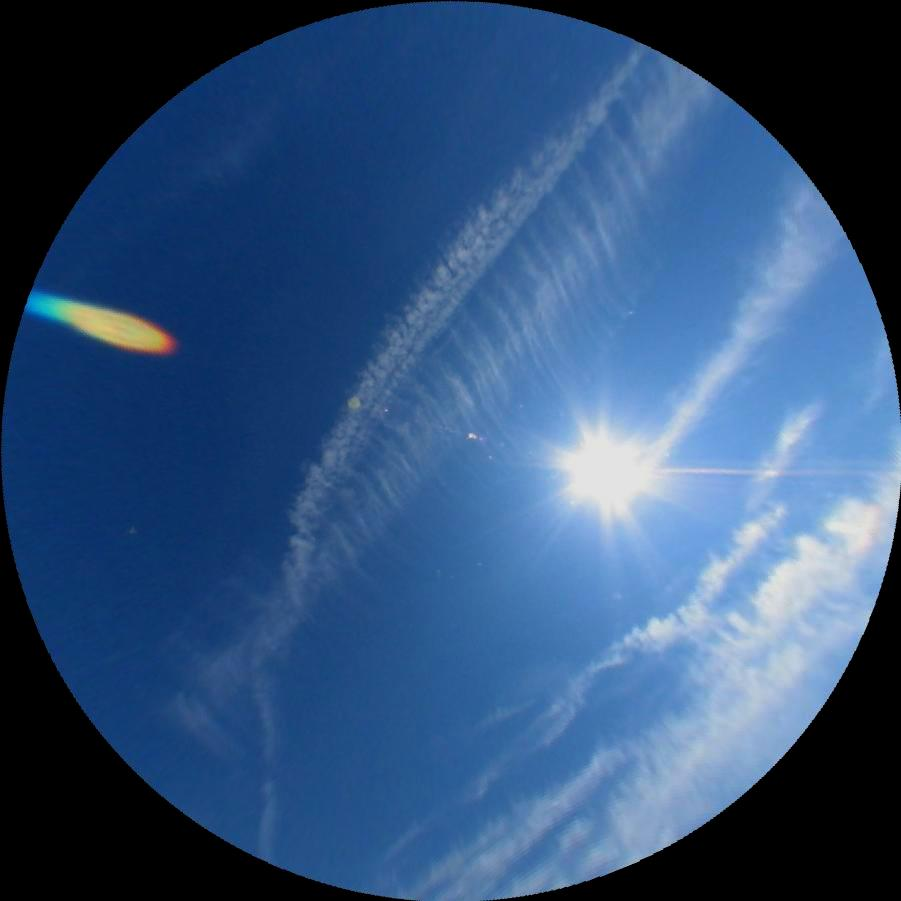contrail veryold: (123, 43, 787, 787), (140, 0, 654, 864), (616, 175, 859, 499)
parasite: (643, 462, 899, 484)
sun: (564, 430, 650, 516)
